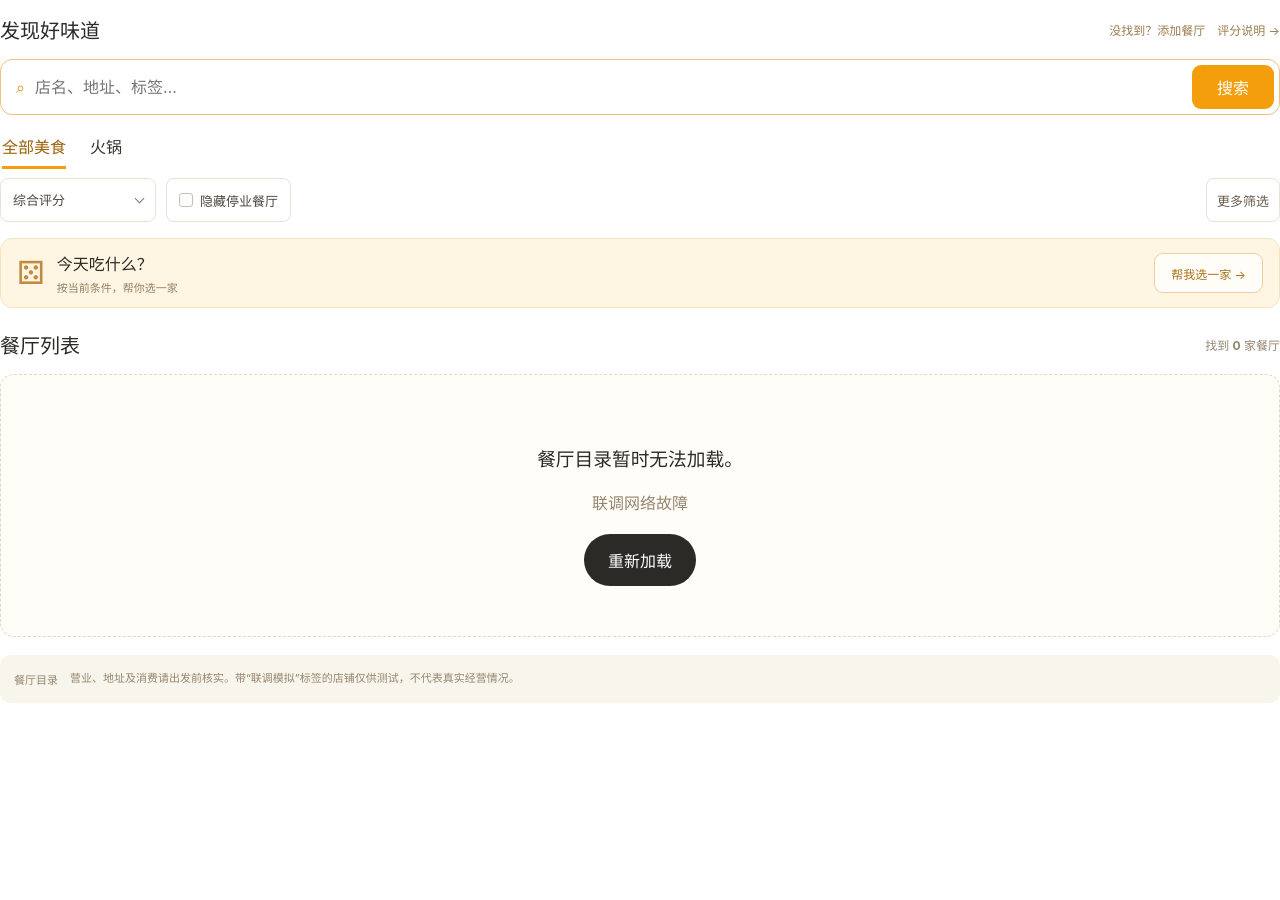
Test: restaurant catalog API integration › shows failure and retries instead of displaying preview restaurants
The image size is (1280, 900).
Check: the message "餐厅目录暂时无法加载。 联调网络故障 重新加载" is shown, box [0,374,1279,637]
Step 1. Click the button "重新加载" → (640,560), box [584,534,696,586]
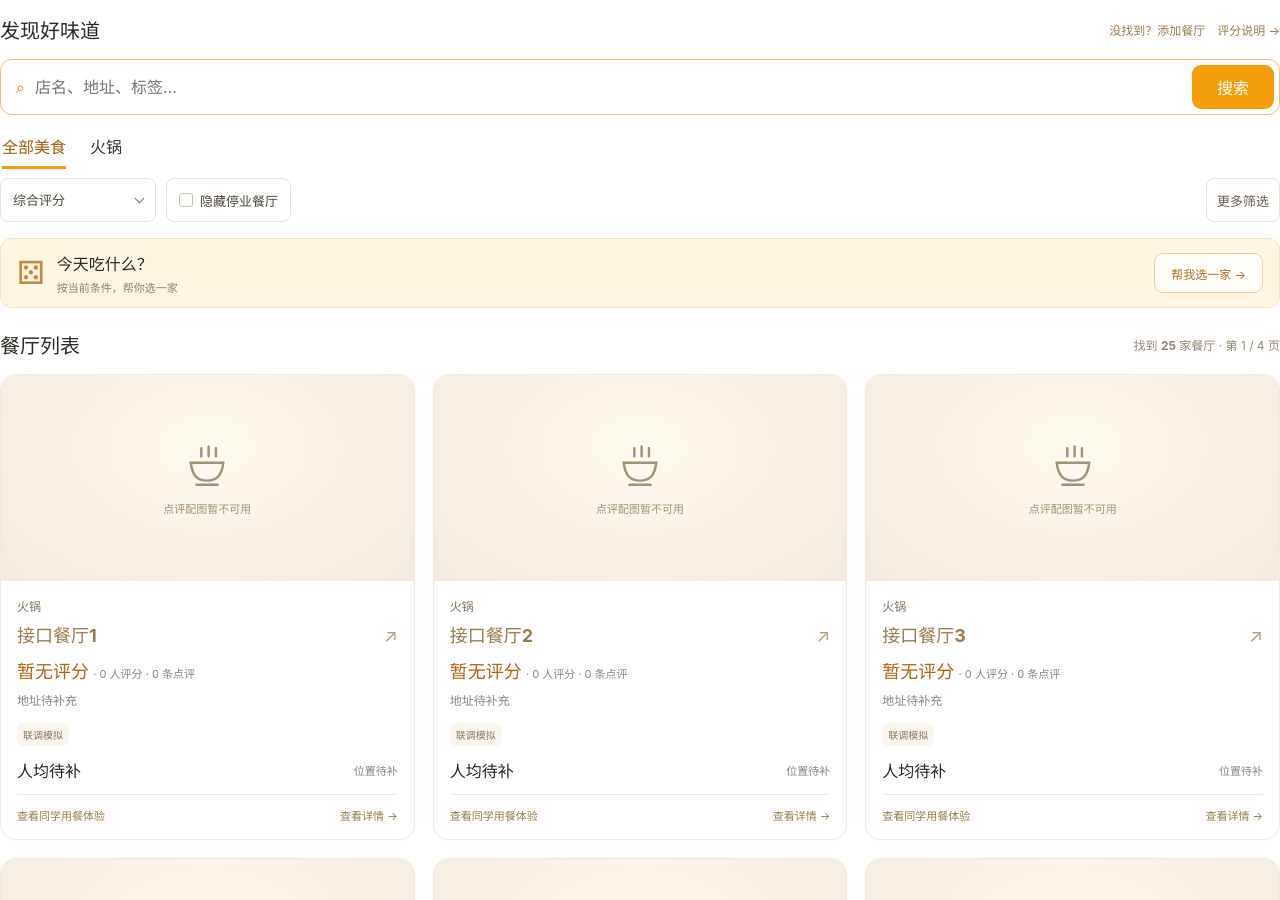
Check: the message "餐厅目录暂时无法加载。 联调网络故障 重新加载" is gone
Check: the number of links with class "restaurant-card" is 8
